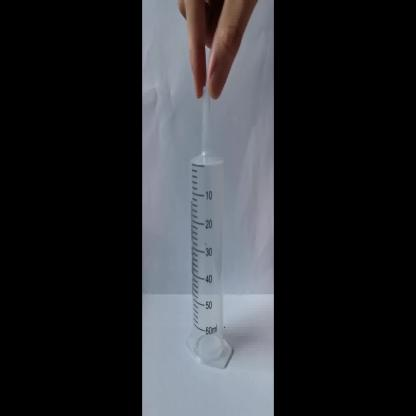dry: (184, 102, 237, 374)
